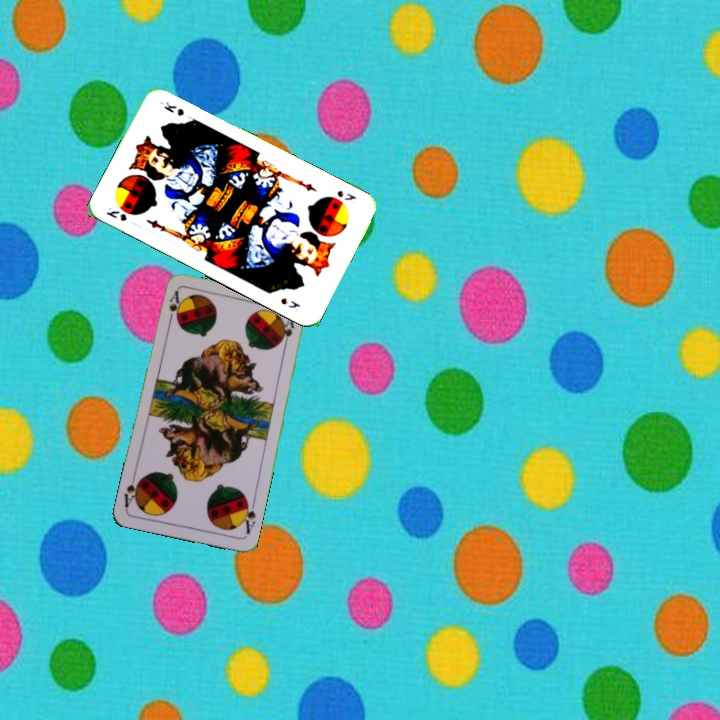SA: (237, 496, 258, 536), (164, 287, 183, 327)
SK: (102, 203, 129, 224), (333, 186, 359, 206)
